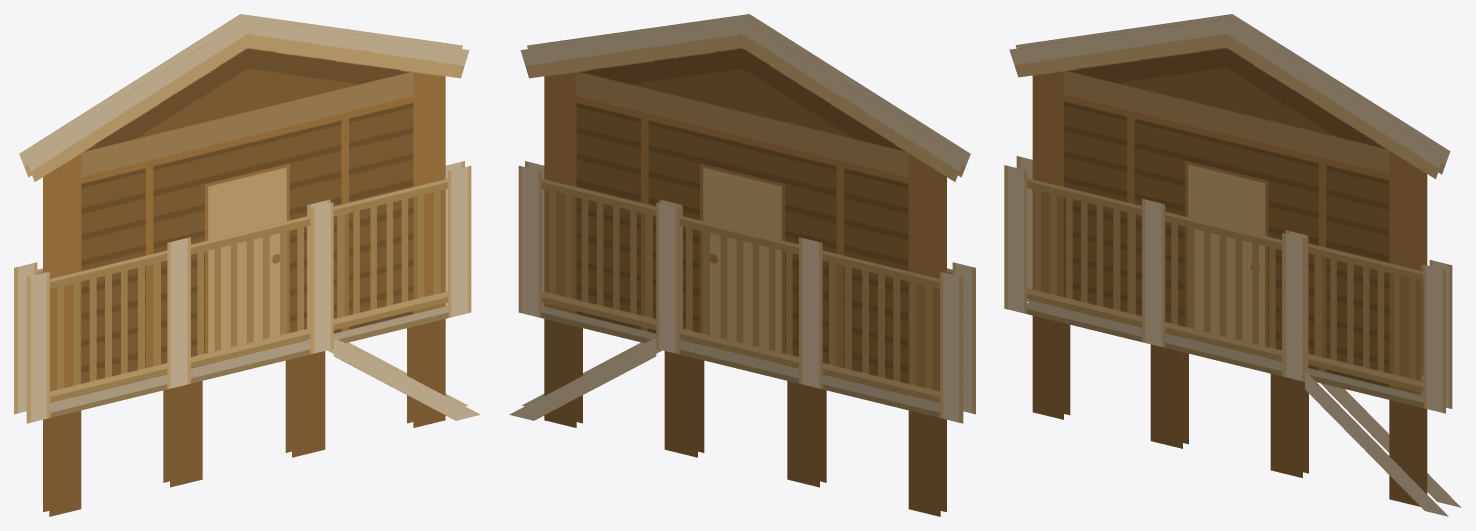
The model's file is loghouse.fbx.
3 views of the same model, side by side, from view 1: azimuth 30°, elevation 25°; view 2: azimuth 150°, elevation 25°; view 3: azimuth 330°, elevation 25° (orthographic). The views are drawn at different scales.
Visible parts, largest first — view 1: grid30, grid31, grid32, grid33; view 2: grid32, grid33, grid30, grid31; view 3: grid30, grid31, grid32, grid33.
Boxes of the visible parts, x1,y1,x2,y2 form: grid30: [25, 18, 471, 516]; grid31: [26, 202, 480, 423]; grid32: [19, 14, 464, 512]; grid33: [14, 262, 467, 414]; grid32: [518, 18, 964, 516]; grid33: [509, 202, 963, 423]; grid30: [525, 14, 970, 512]; grid31: [522, 262, 975, 414]; grid30: [1009, 18, 1445, 506]; grid31: [1004, 165, 1448, 516]; grid32: [1015, 14, 1452, 494]; grid33: [1016, 156, 1461, 507].
Size of the model in its own units: 413 by 391 by 20.
